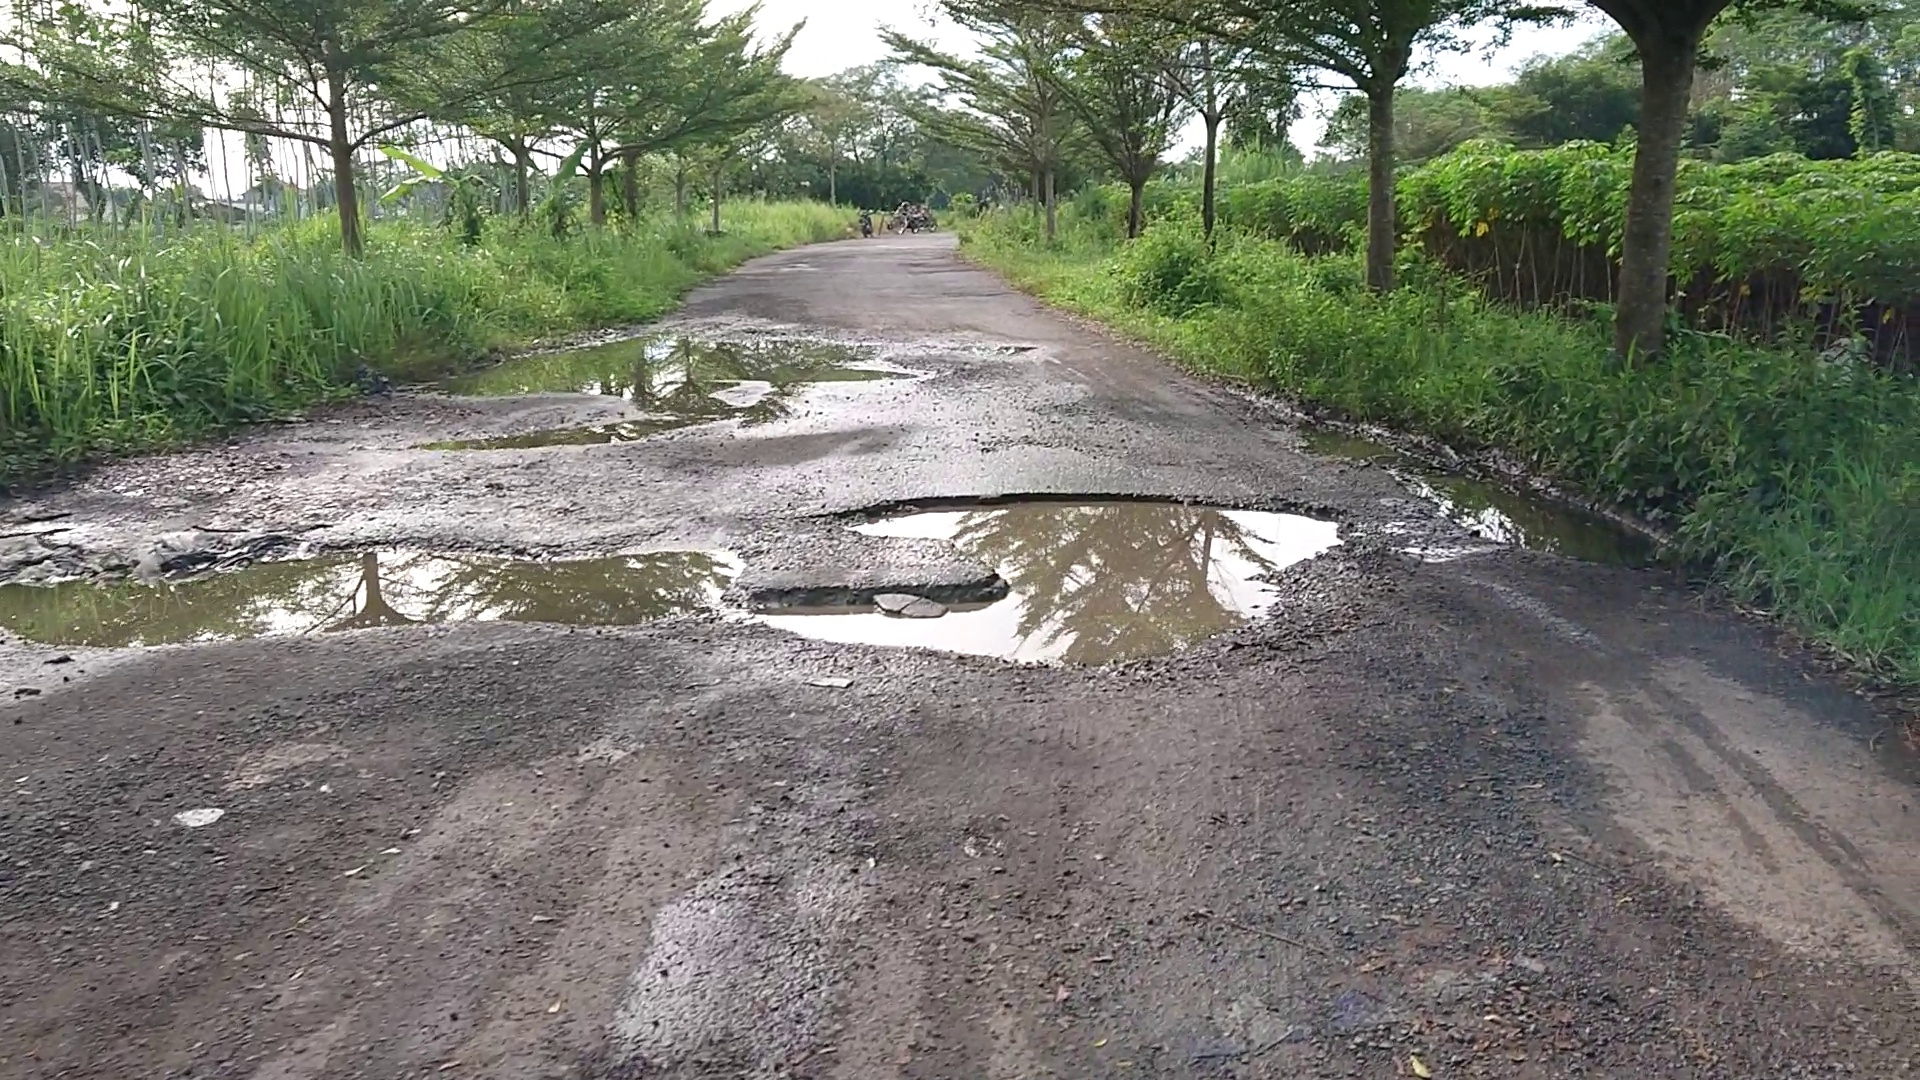Berlubang: (796, 491, 1379, 662), (9, 550, 750, 638), (448, 343, 874, 440)
